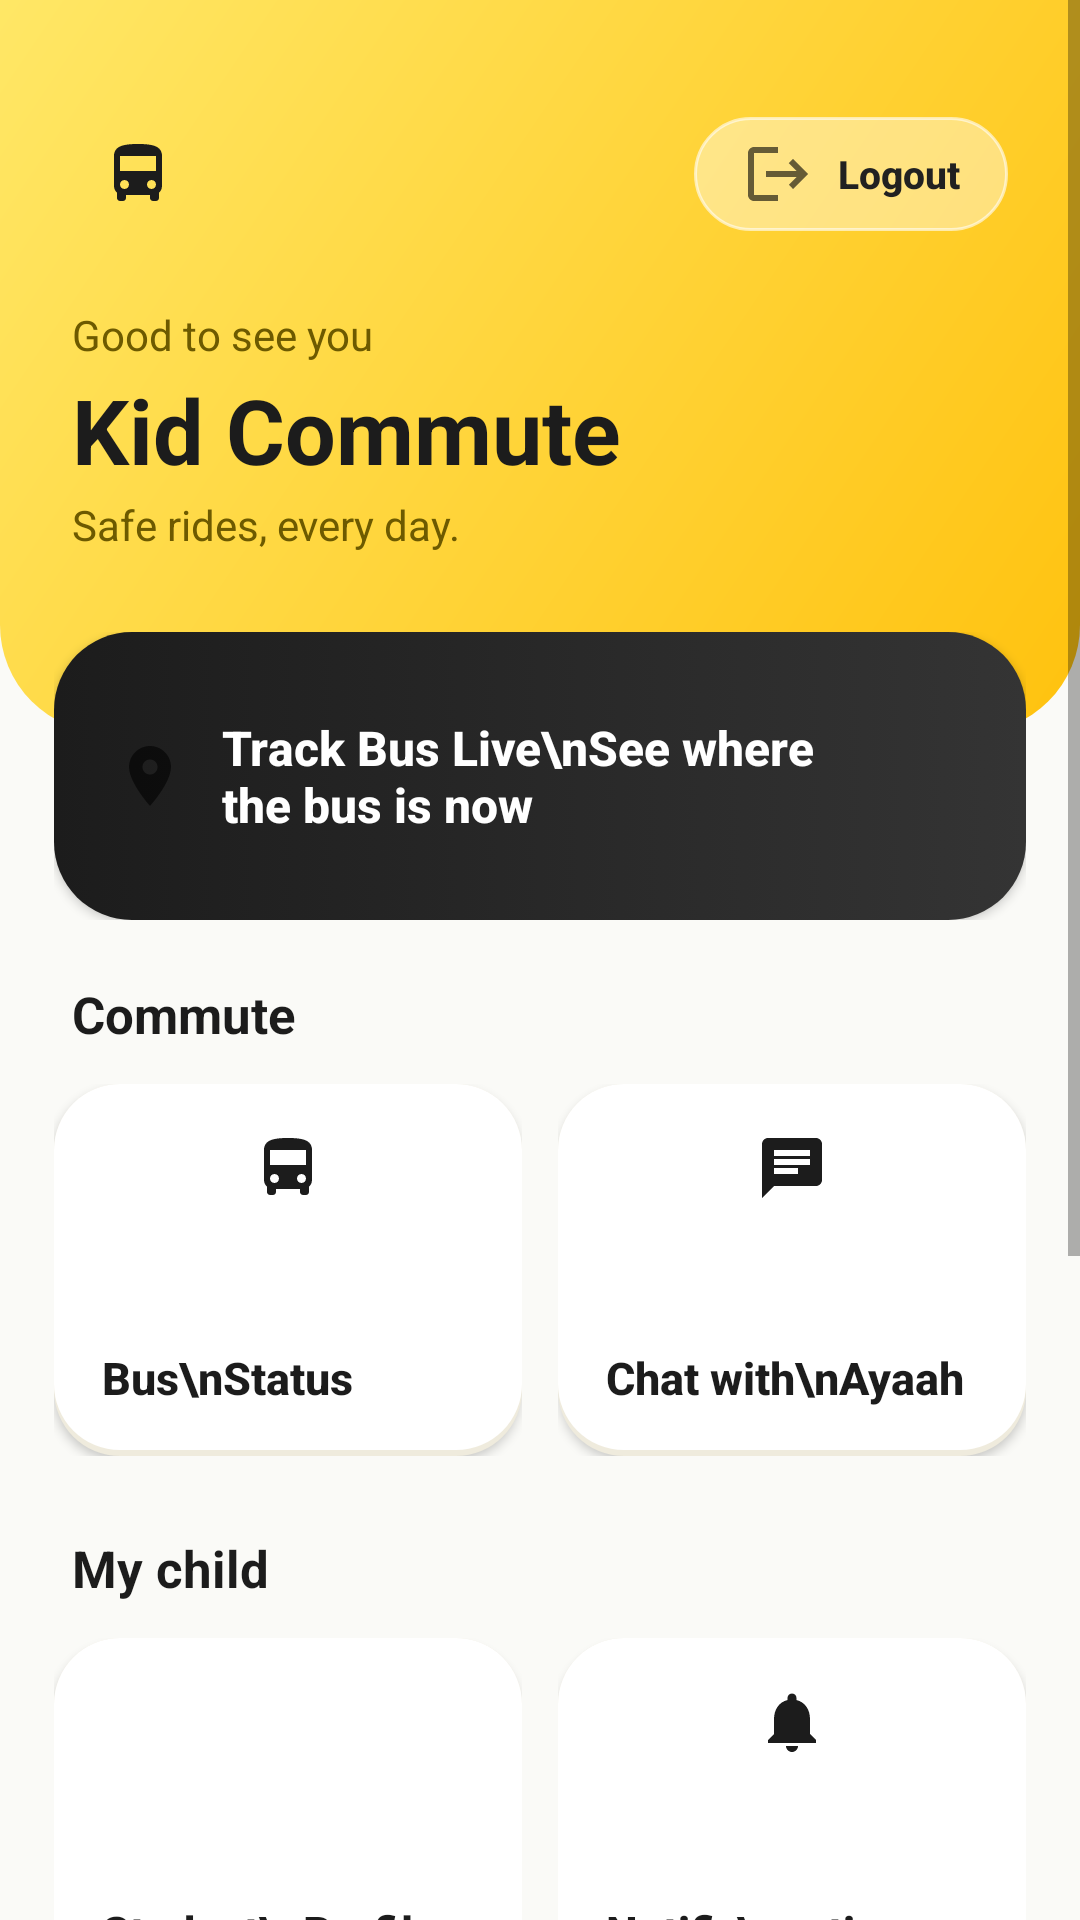

Icon bounding boxes for this 1080*1920 phone screenshot, format (x1, y1, x2, y2):
bus: (114, 144, 162, 201)
